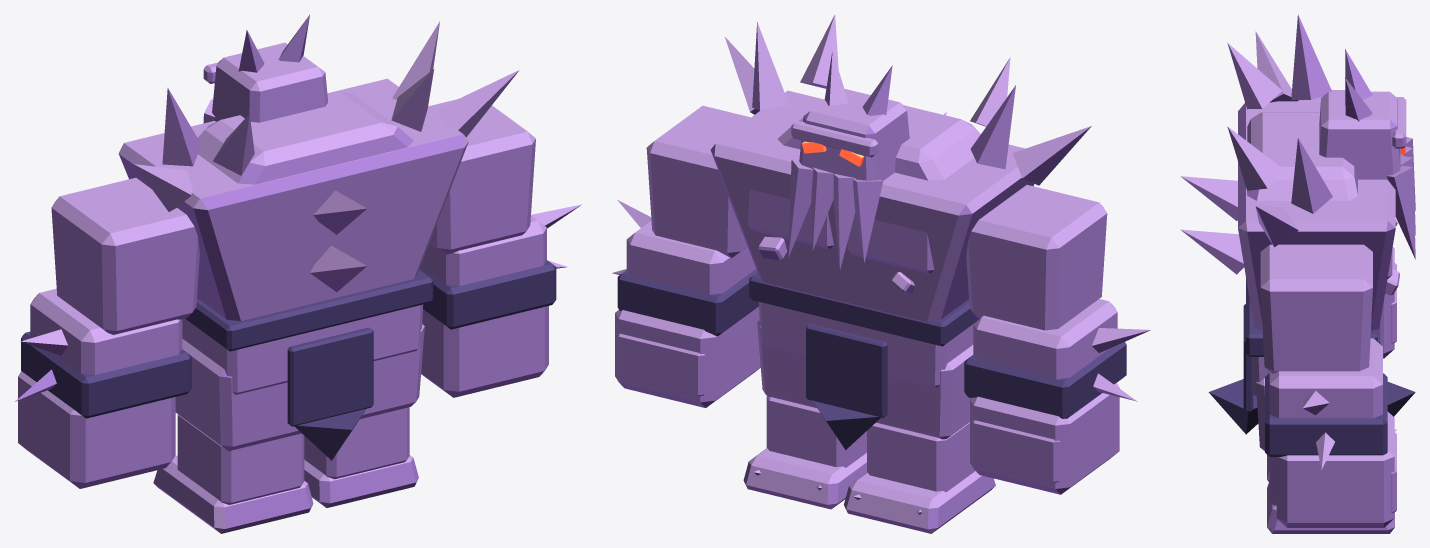
Rendered from crystal_giant.glb.
3 views of the same model, side by side, from view 1: azimuth 30°, elevation 25°; view 2: azimuth 150°, elevation 25°; view 3: azimuth 270°, elevation 25° (orthographic). The views are drawn at different scales.
Parts seen in each view (by area): view 1: Torso, ArmL, ArmR, Hips, LegL, LegR; view 2: Torso, ArmL, ArmR, Hips, LegL, LegR; view 3: Torso, ArmR, Hips, LegR, ArmL.
Part boxes in pixels (x1=…): Torso: x1=118, y1=14, x2=519, y2=320; ArmL: x1=15, y1=177, x2=199, y2=488; ArmR: x1=419, y1=99, x2=581, y2=397; Hips: x1=182, y1=270, x2=433, y2=460; LegL: x1=153, y1=338, x2=313, y2=533; LegR: x1=304, y1=324, x2=424, y2=507; Torso: x1=710, y1=15, x2=1091, y2=322; ArmL: x1=964, y1=185, x2=1150, y2=494; ArmR: x1=612, y1=105, x2=760, y2=407; Hips: x1=749, y1=272, x2=979, y2=449; LegL: x1=844, y1=345, x2=995, y2=533; LegR: x1=743, y1=320, x2=866, y2=509; Torso: x1=1180, y1=14, x2=1415, y2=330; ArmR: x1=1260, y1=244, x2=1396, y2=527; Hips: x1=1208, y1=278, x2=1415, y2=434; LegR: x1=1256, y1=378, x2=1394, y2=533; ArmL: x1=1298, y1=90, x2=1396, y2=358.
Size of the model in its own units: 2.56 by 2 by 1.
